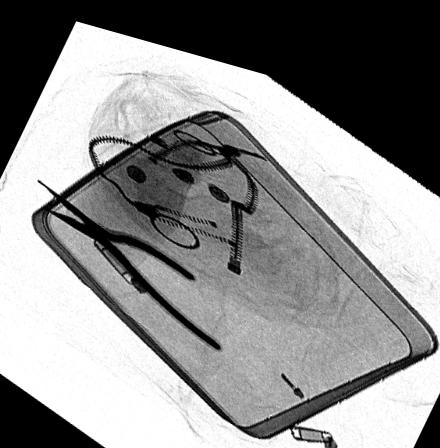Pliers: (31, 175, 223, 342)
